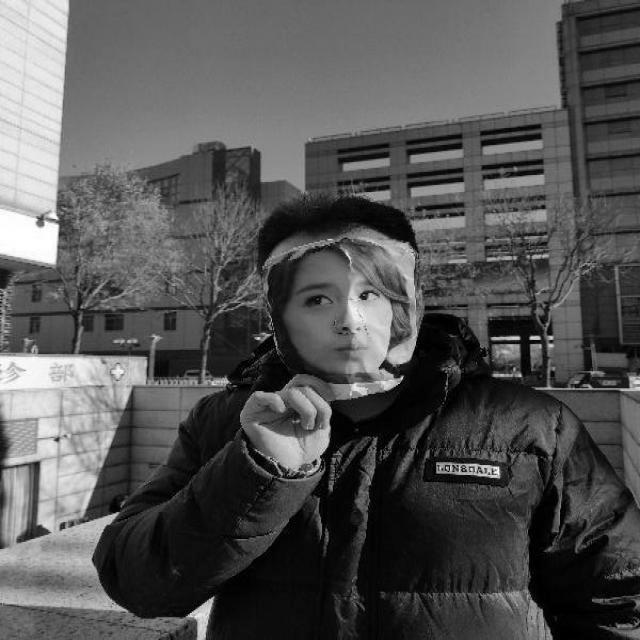fake: (261, 234, 416, 400)
